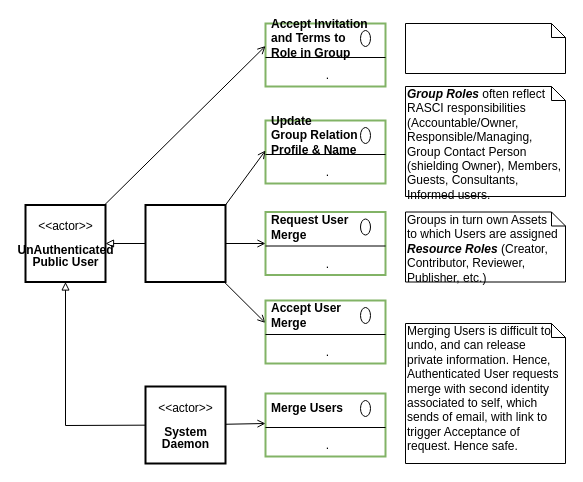
This 583x482 diagram has some shape labels left out. Here are the shapes that lost their labels. From the top down, the centre of each, then its label:
the point at 485,48: Roles are Group specific, and cascade down to child Groups.
the point at 185,243: <<actor>> Authenticated User
